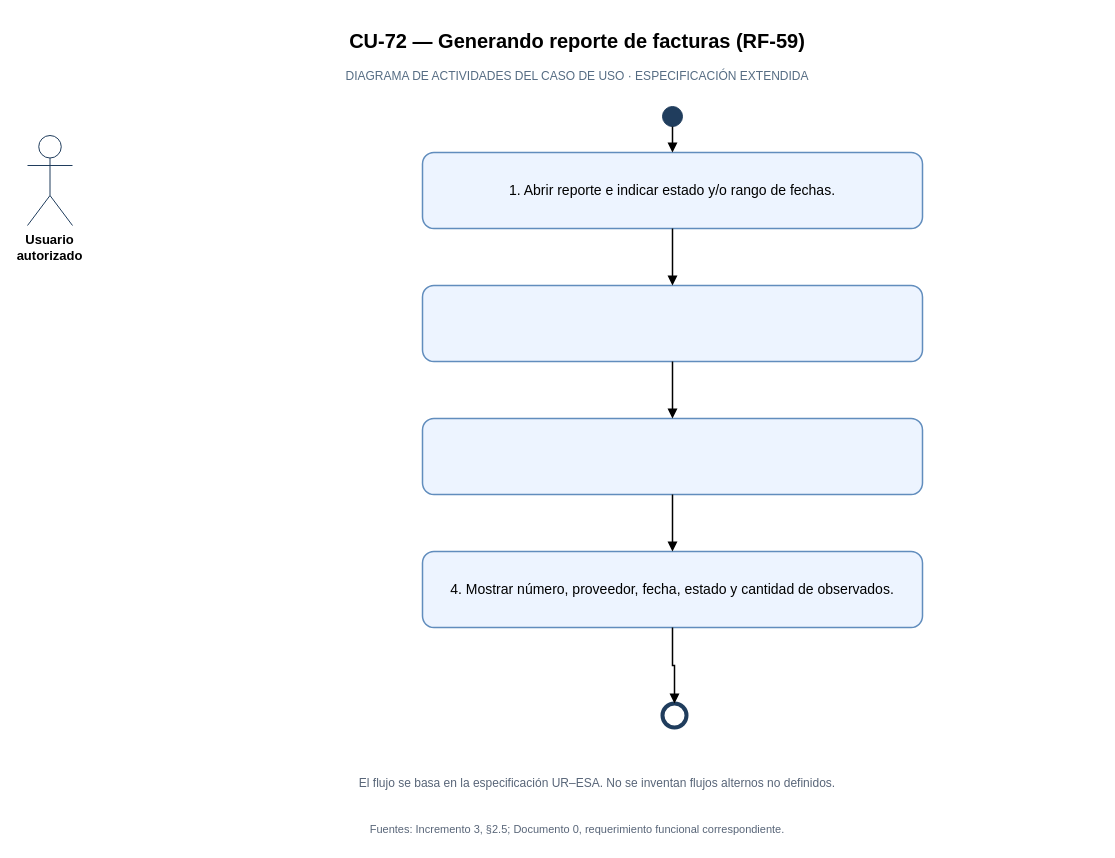
Image size: 1115x858. Some labels were removed from this diagram. The shapes that lost their labels are listed below. From the top down, each one's box as (x1, y1, x2, y2) in pixels, then its label:
(421, 284, 923, 362): 2. Consultar las facturas que cumplen ambos filtros aplicados.
(421, 417, 923, 495): 3. Calcular ítems observados por factura al generar el reporte.
